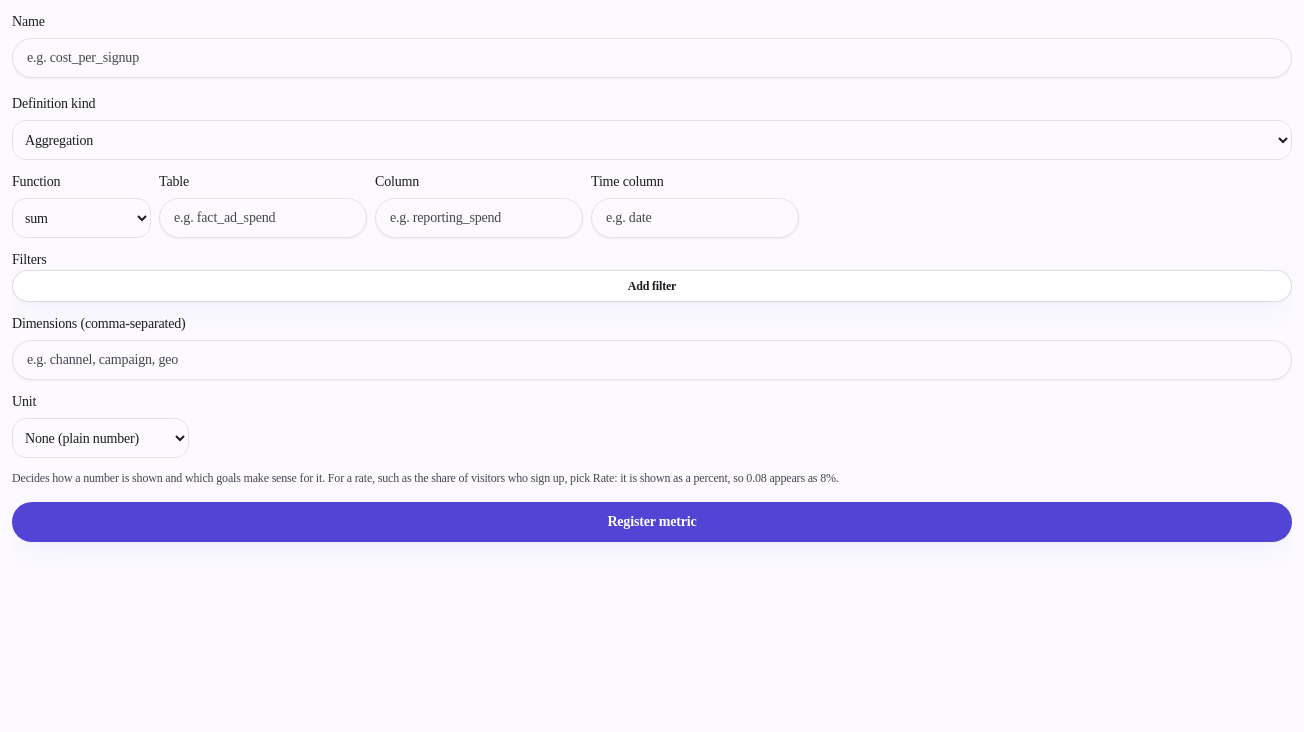
Scenario: RegisterMetricDefForm › explains that nothing was saved when GrowthOS cannot be reached
In the field labelled "Name": (652, 58) x1=12 y1=38 x2=1292 y2=78, type "ad_spend"
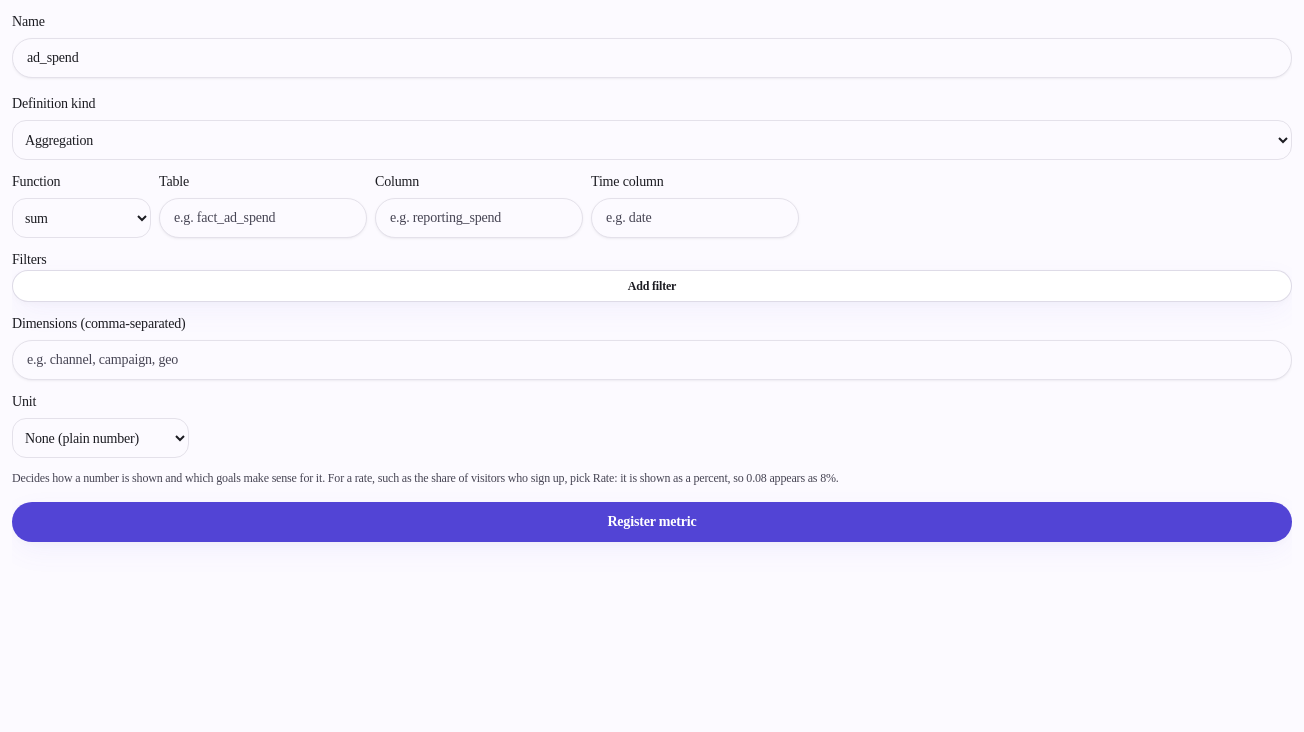
In the field labelled "Table": (263, 218) x1=159 y1=198 x2=367 y2=238, type "fact_ad_spend"
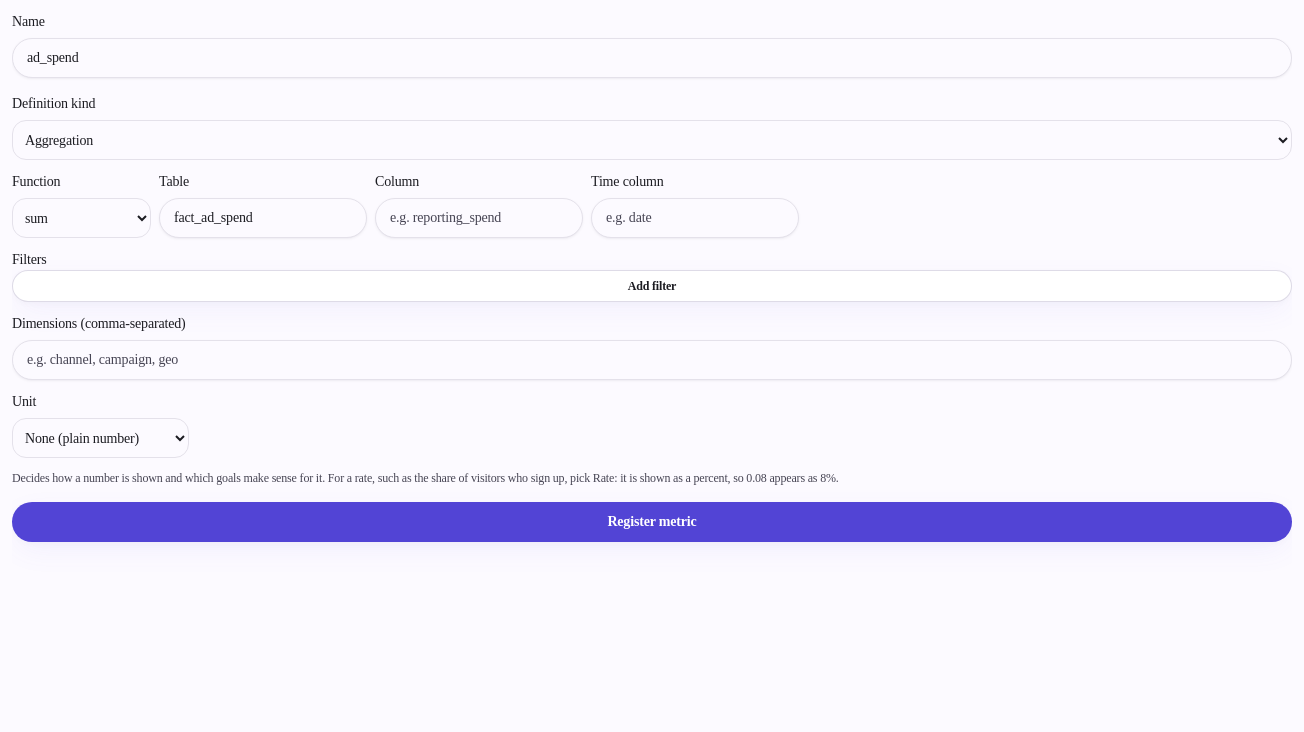
In the field labelled "Column": (479, 218) x1=375 y1=198 x2=583 y2=238, type "reporting_spend"
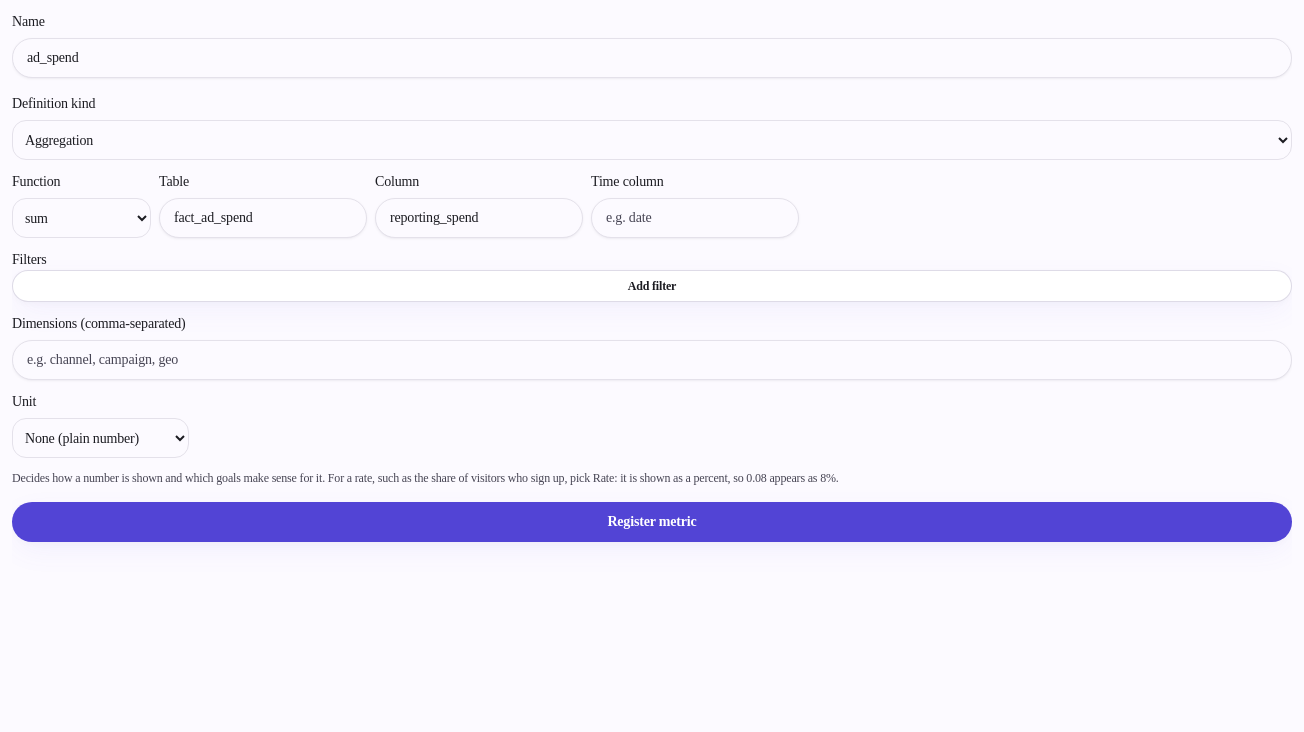
In the field labelled "Time column": (695, 218) x1=591 y1=198 x2=799 y2=238, type "date"
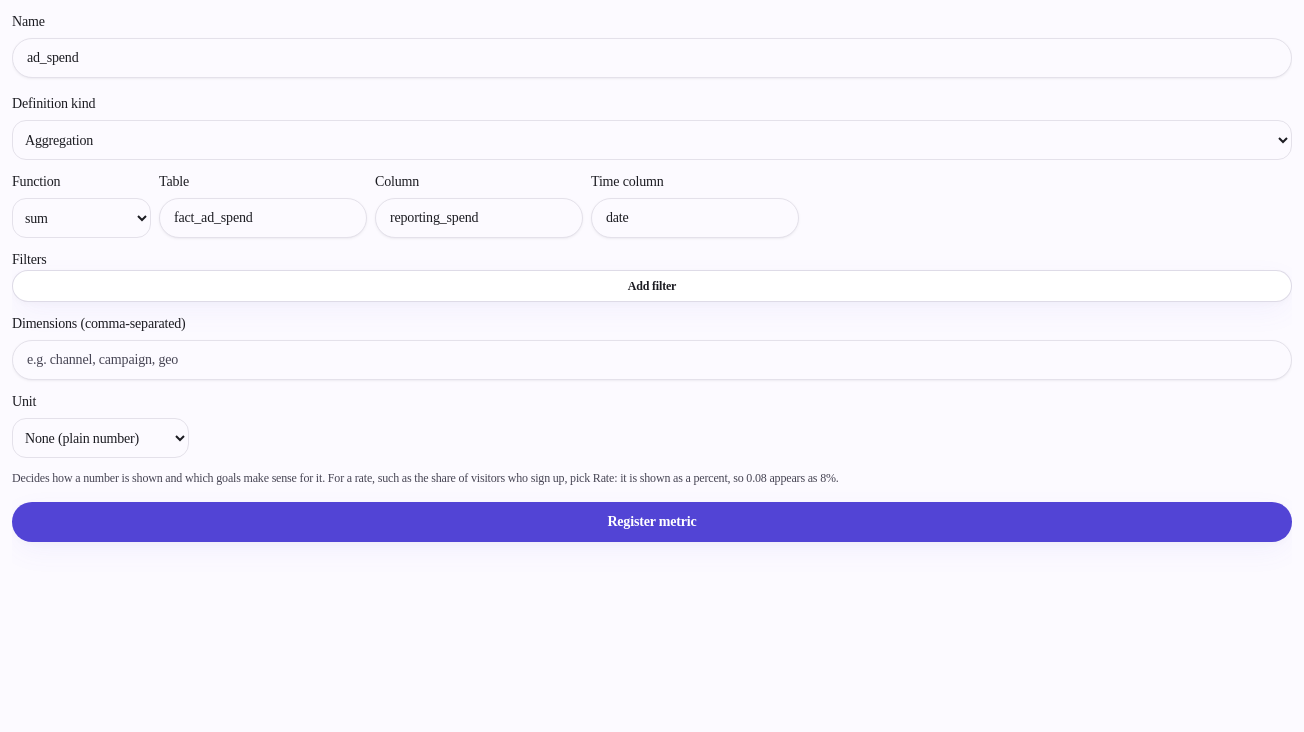
Click the button "Register metric": (652, 522) x1=12 y1=502 x2=1292 y2=542
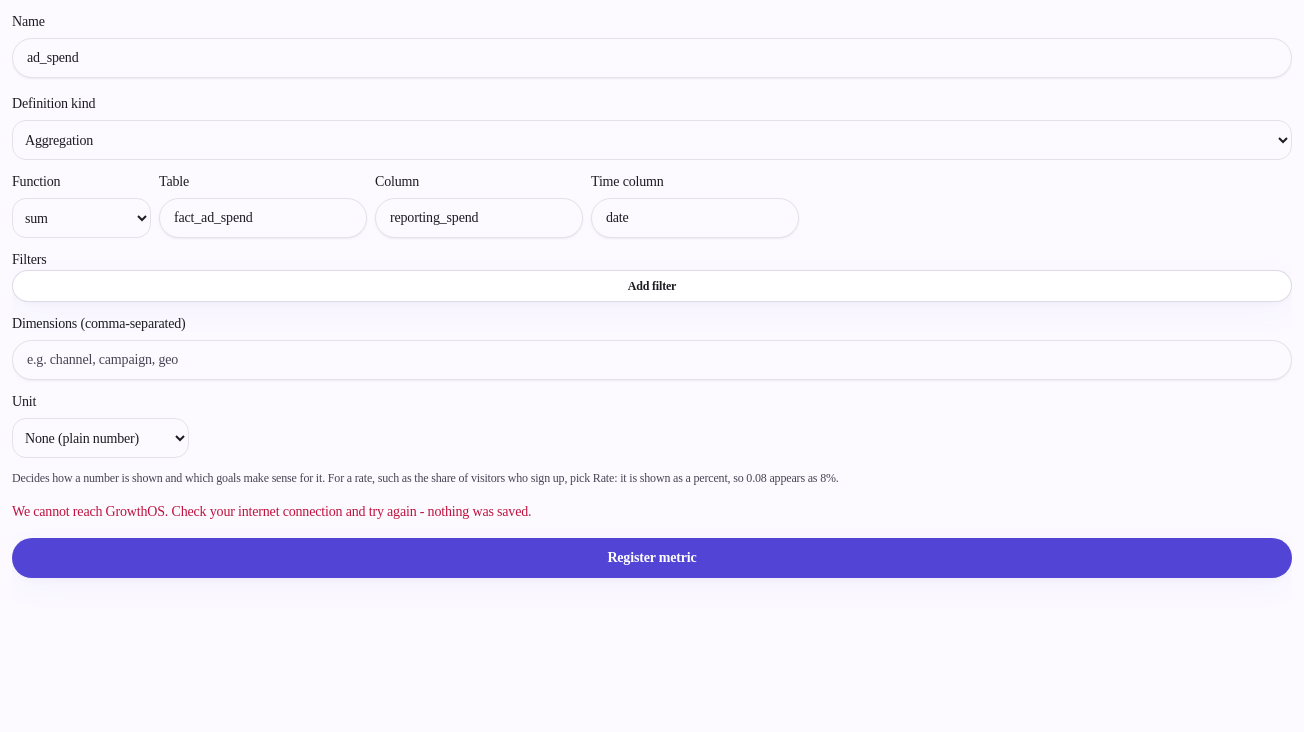
Expected: the message shows "We cannot reach GrowthOS", x1=12 y1=504 x2=531 y2=519
